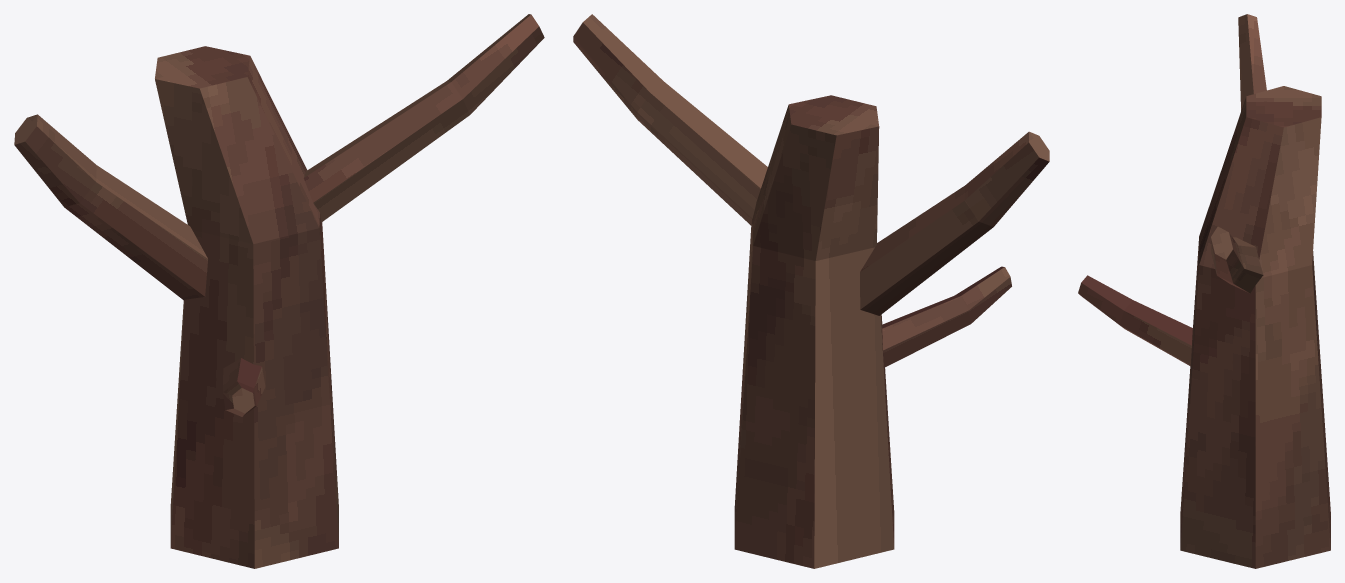
Rendered from Tree.gltf.
3 views of the same model, side by side, from view 1: azimuth 30°, elevation 25°; view 2: azimuth 150°, elevation 25°; view 3: azimuth 270°, elevation 25° (orthographic). The views are drawn at different scales.
Visible parts, largest first — view 1: cylinder (×4); view 2: cylinder (×4); view 3: cylinder (×4).
Boxes of the visible parts, x1,y1,x2,y2 form: cylinder (×4): (14,14,544,568); cylinder (×4): (573,14,1049,568); cylinder (×4): (1078,14,1330,568).
Size of the model in its own units: 3.53 by 3.09 by 1.68.
Materials: 1 (1 with a texture image).
